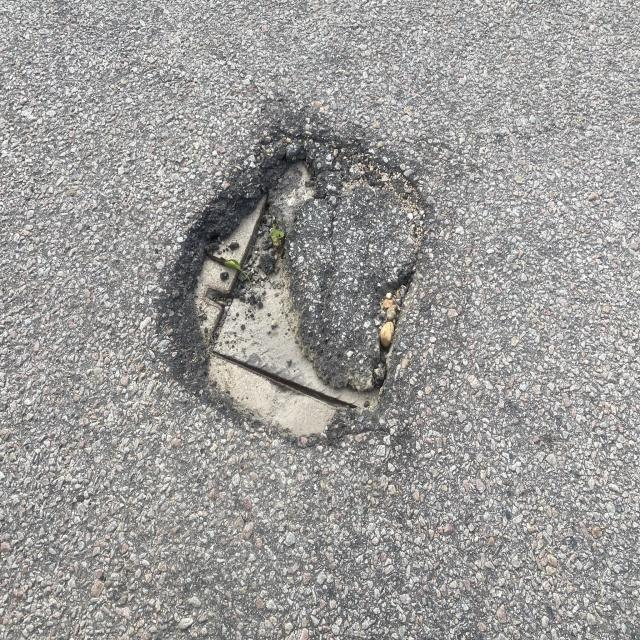Pothole: (153, 92, 491, 513)
